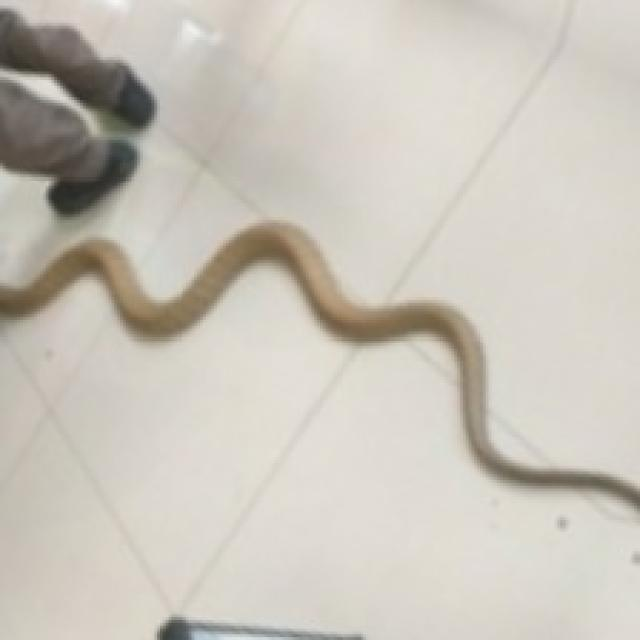king cobra: (0, 223, 637, 509)
